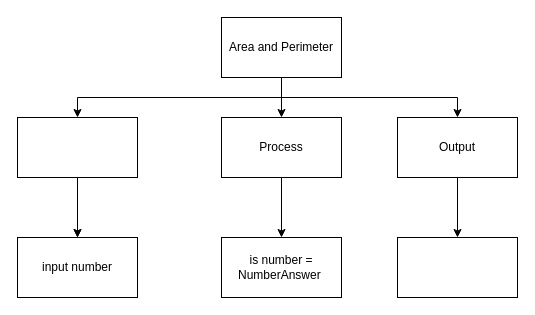
Some shapes in this 535 by 315 pixel diagram are drawn without their labels. The centre of each missing label's shape, as x and y in pixels:
Input: the point at 77,147
show answer: the point at 457,267
